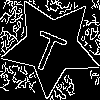T: (26, 21, 72, 75)
